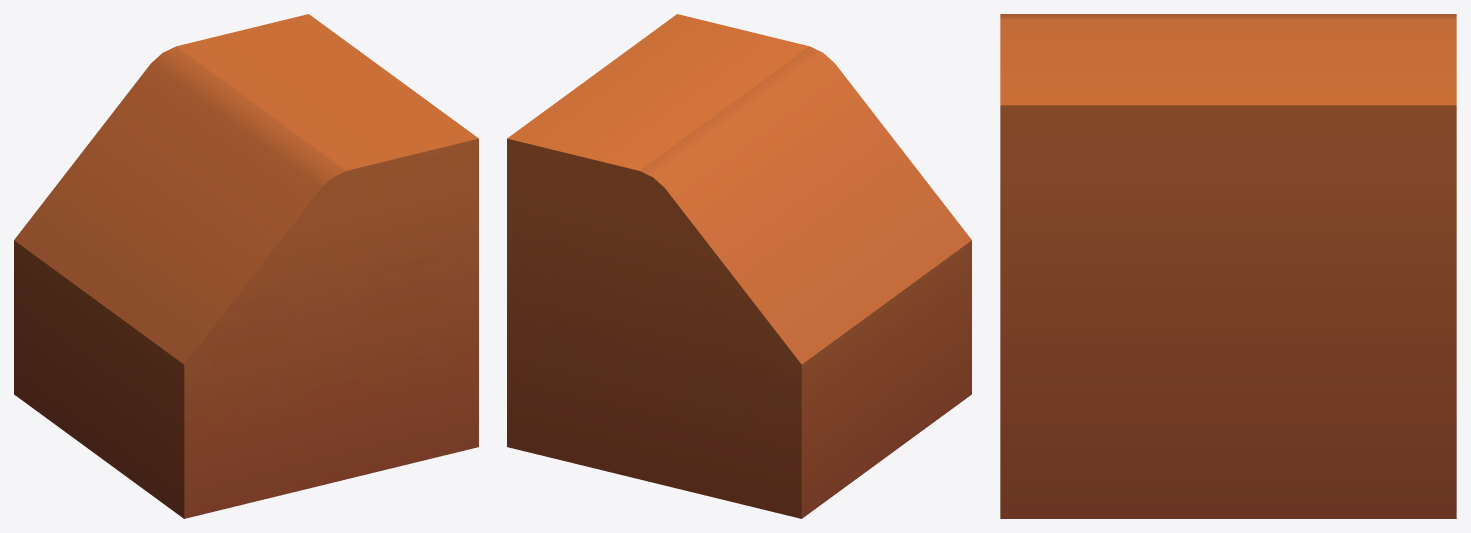
The model's file is kaykit-space-base-bits-terrain-slope.glb.
The picture shows the model from 3 angles, left to right: view 1: azimuth 30°, elevation 25°; view 2: azimuth 150°, elevation 25°; view 3: azimuth 270°, elevation 25°; orthographic projection. The views are drawn at different scales.
Visible parts, largest first — view 1: terrain_slope; view 2: terrain_slope; view 3: terrain_slope.
Part boxes in pixels (x1,y1,x2,y2): terrain_slope: (14, 14, 478, 518); terrain_slope: (507, 14, 971, 518); terrain_slope: (1000, 14, 1456, 518).
Bounding box in the file's own units: 2 × 2 × 2.
Materials: 1 (1 with a texture image).
